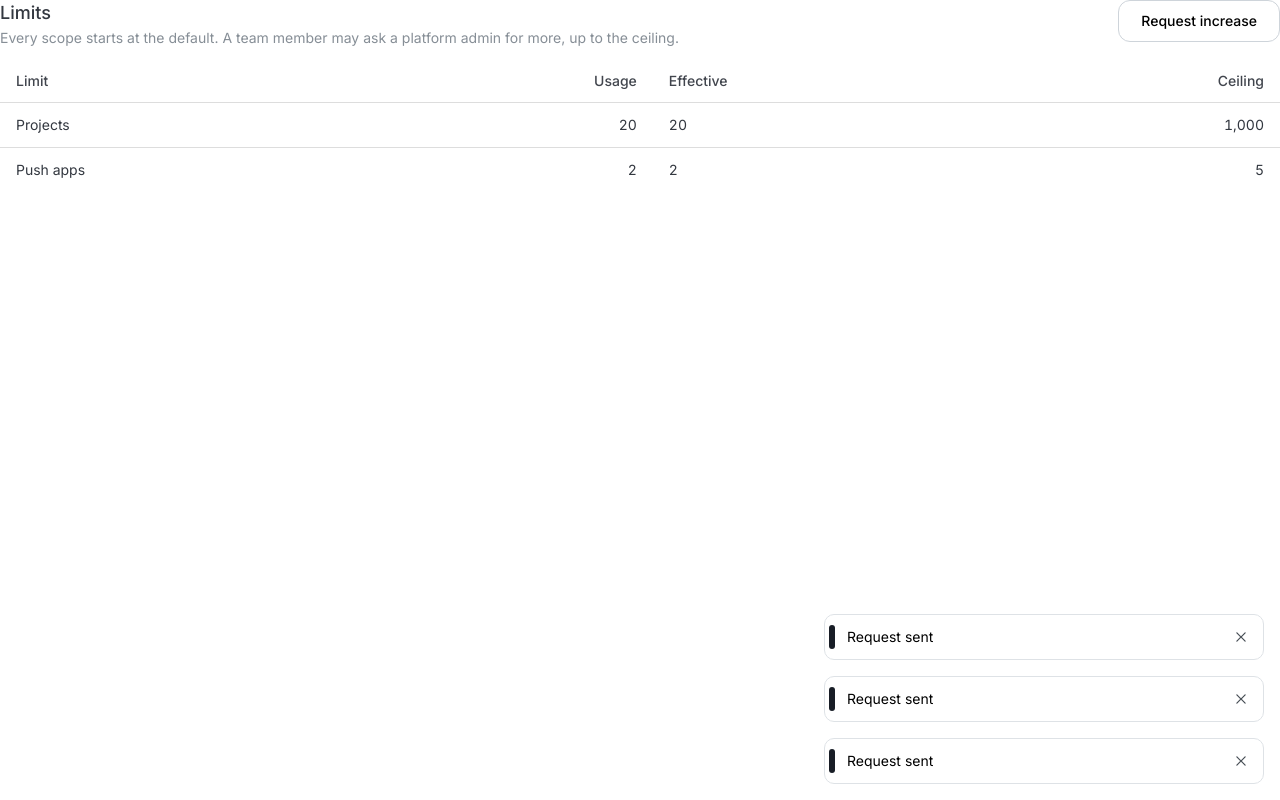
Test case: LimitsSection › switches the stepped value with the limit when both may be asked for
The width and height of the screenshot is (1280, 800).
Click the button "Request increase": (1199,21) [1118,0,1279,42]
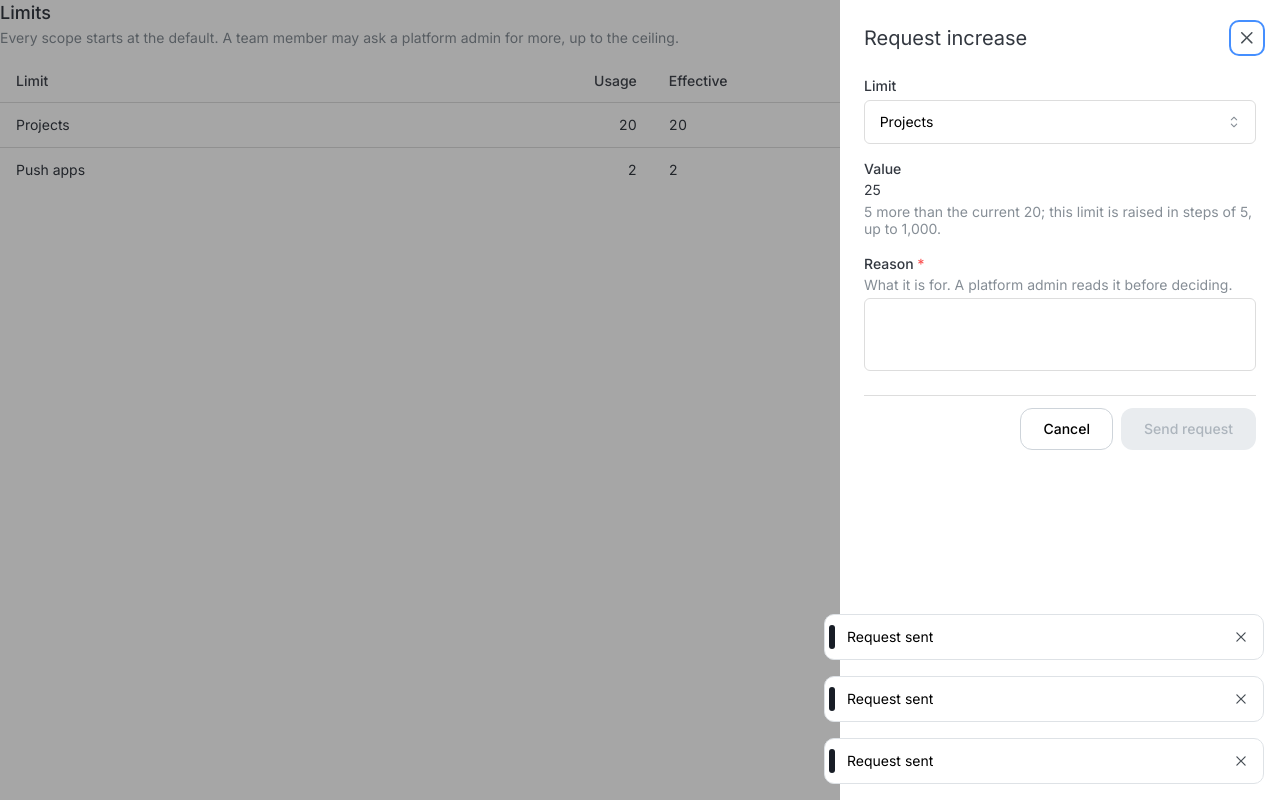
Expected: the text "25" is shown, [864,181,881,198]
Select "Push apps" in the dropdown labelled "Limit": (1060,122) [864,100,1256,144]
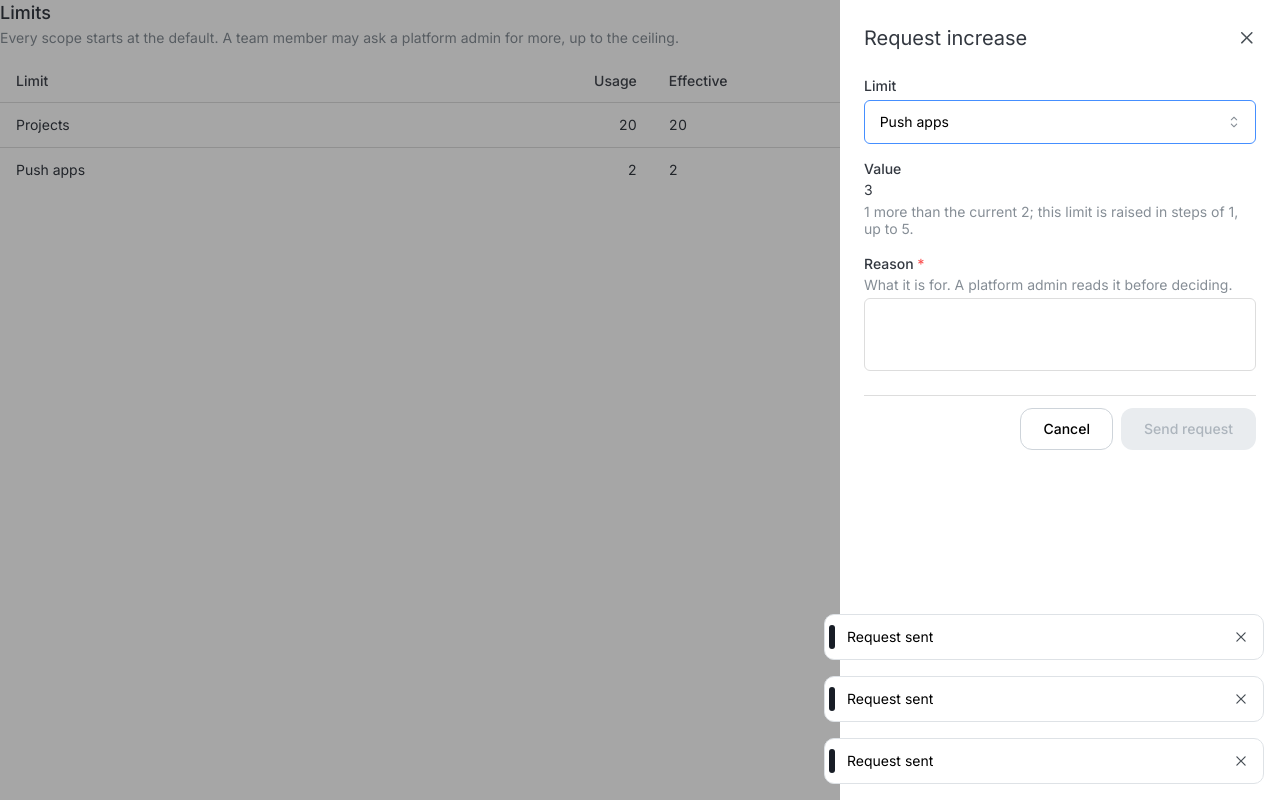
Expected: the text "3" is shown, [864,181,873,198]
Expected: the text "25" is gone
